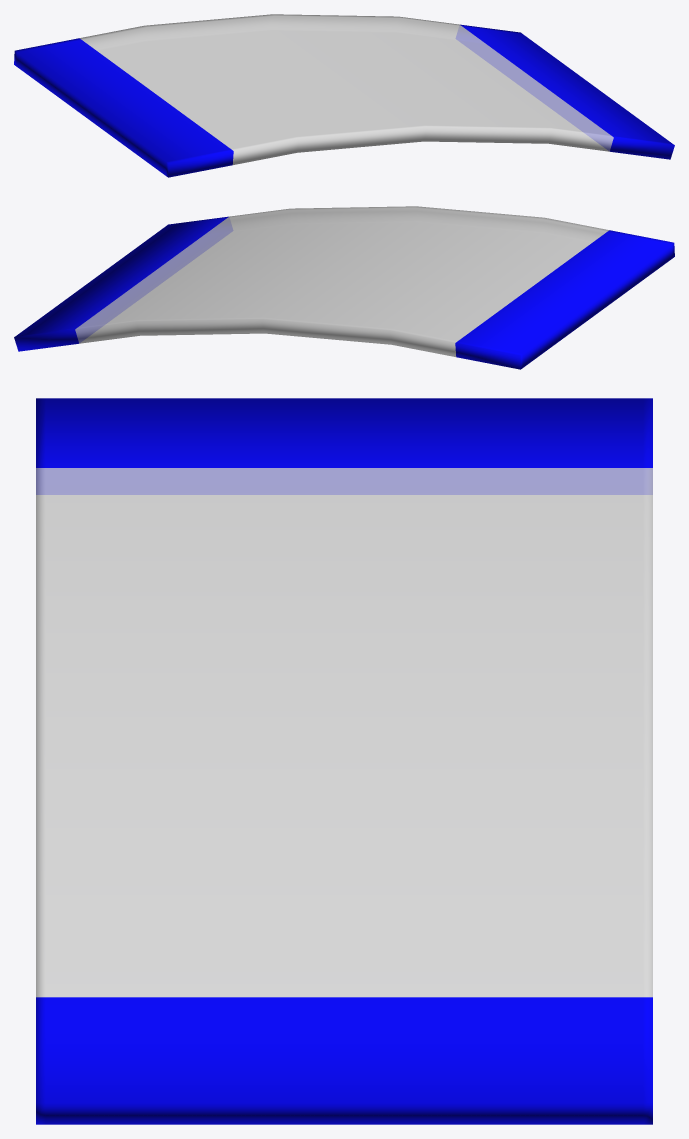
The model's file is LongNote01.fbx.
The picture shows the model from 3 angles, top to bottom: view 1: azimuth 30°, elevation 25°; view 2: azimuth 150°, elevation 25°; view 3: azimuth 270°, elevation 25°; orthographic projection. The views are drawn at different scales.
Visible parts, largest first — view 1: LongNote01; view 2: LongNote01; view 3: LongNote01.
Part boxes in pixels (box(x1,y1,x2,y2)): LongNote01: box(14, 14, 674, 177); LongNote01: box(14, 206, 674, 369); LongNote01: box(36, 398, 652, 1124).
Size of the model in its own units: 37.93 by 20 by 8.48.
